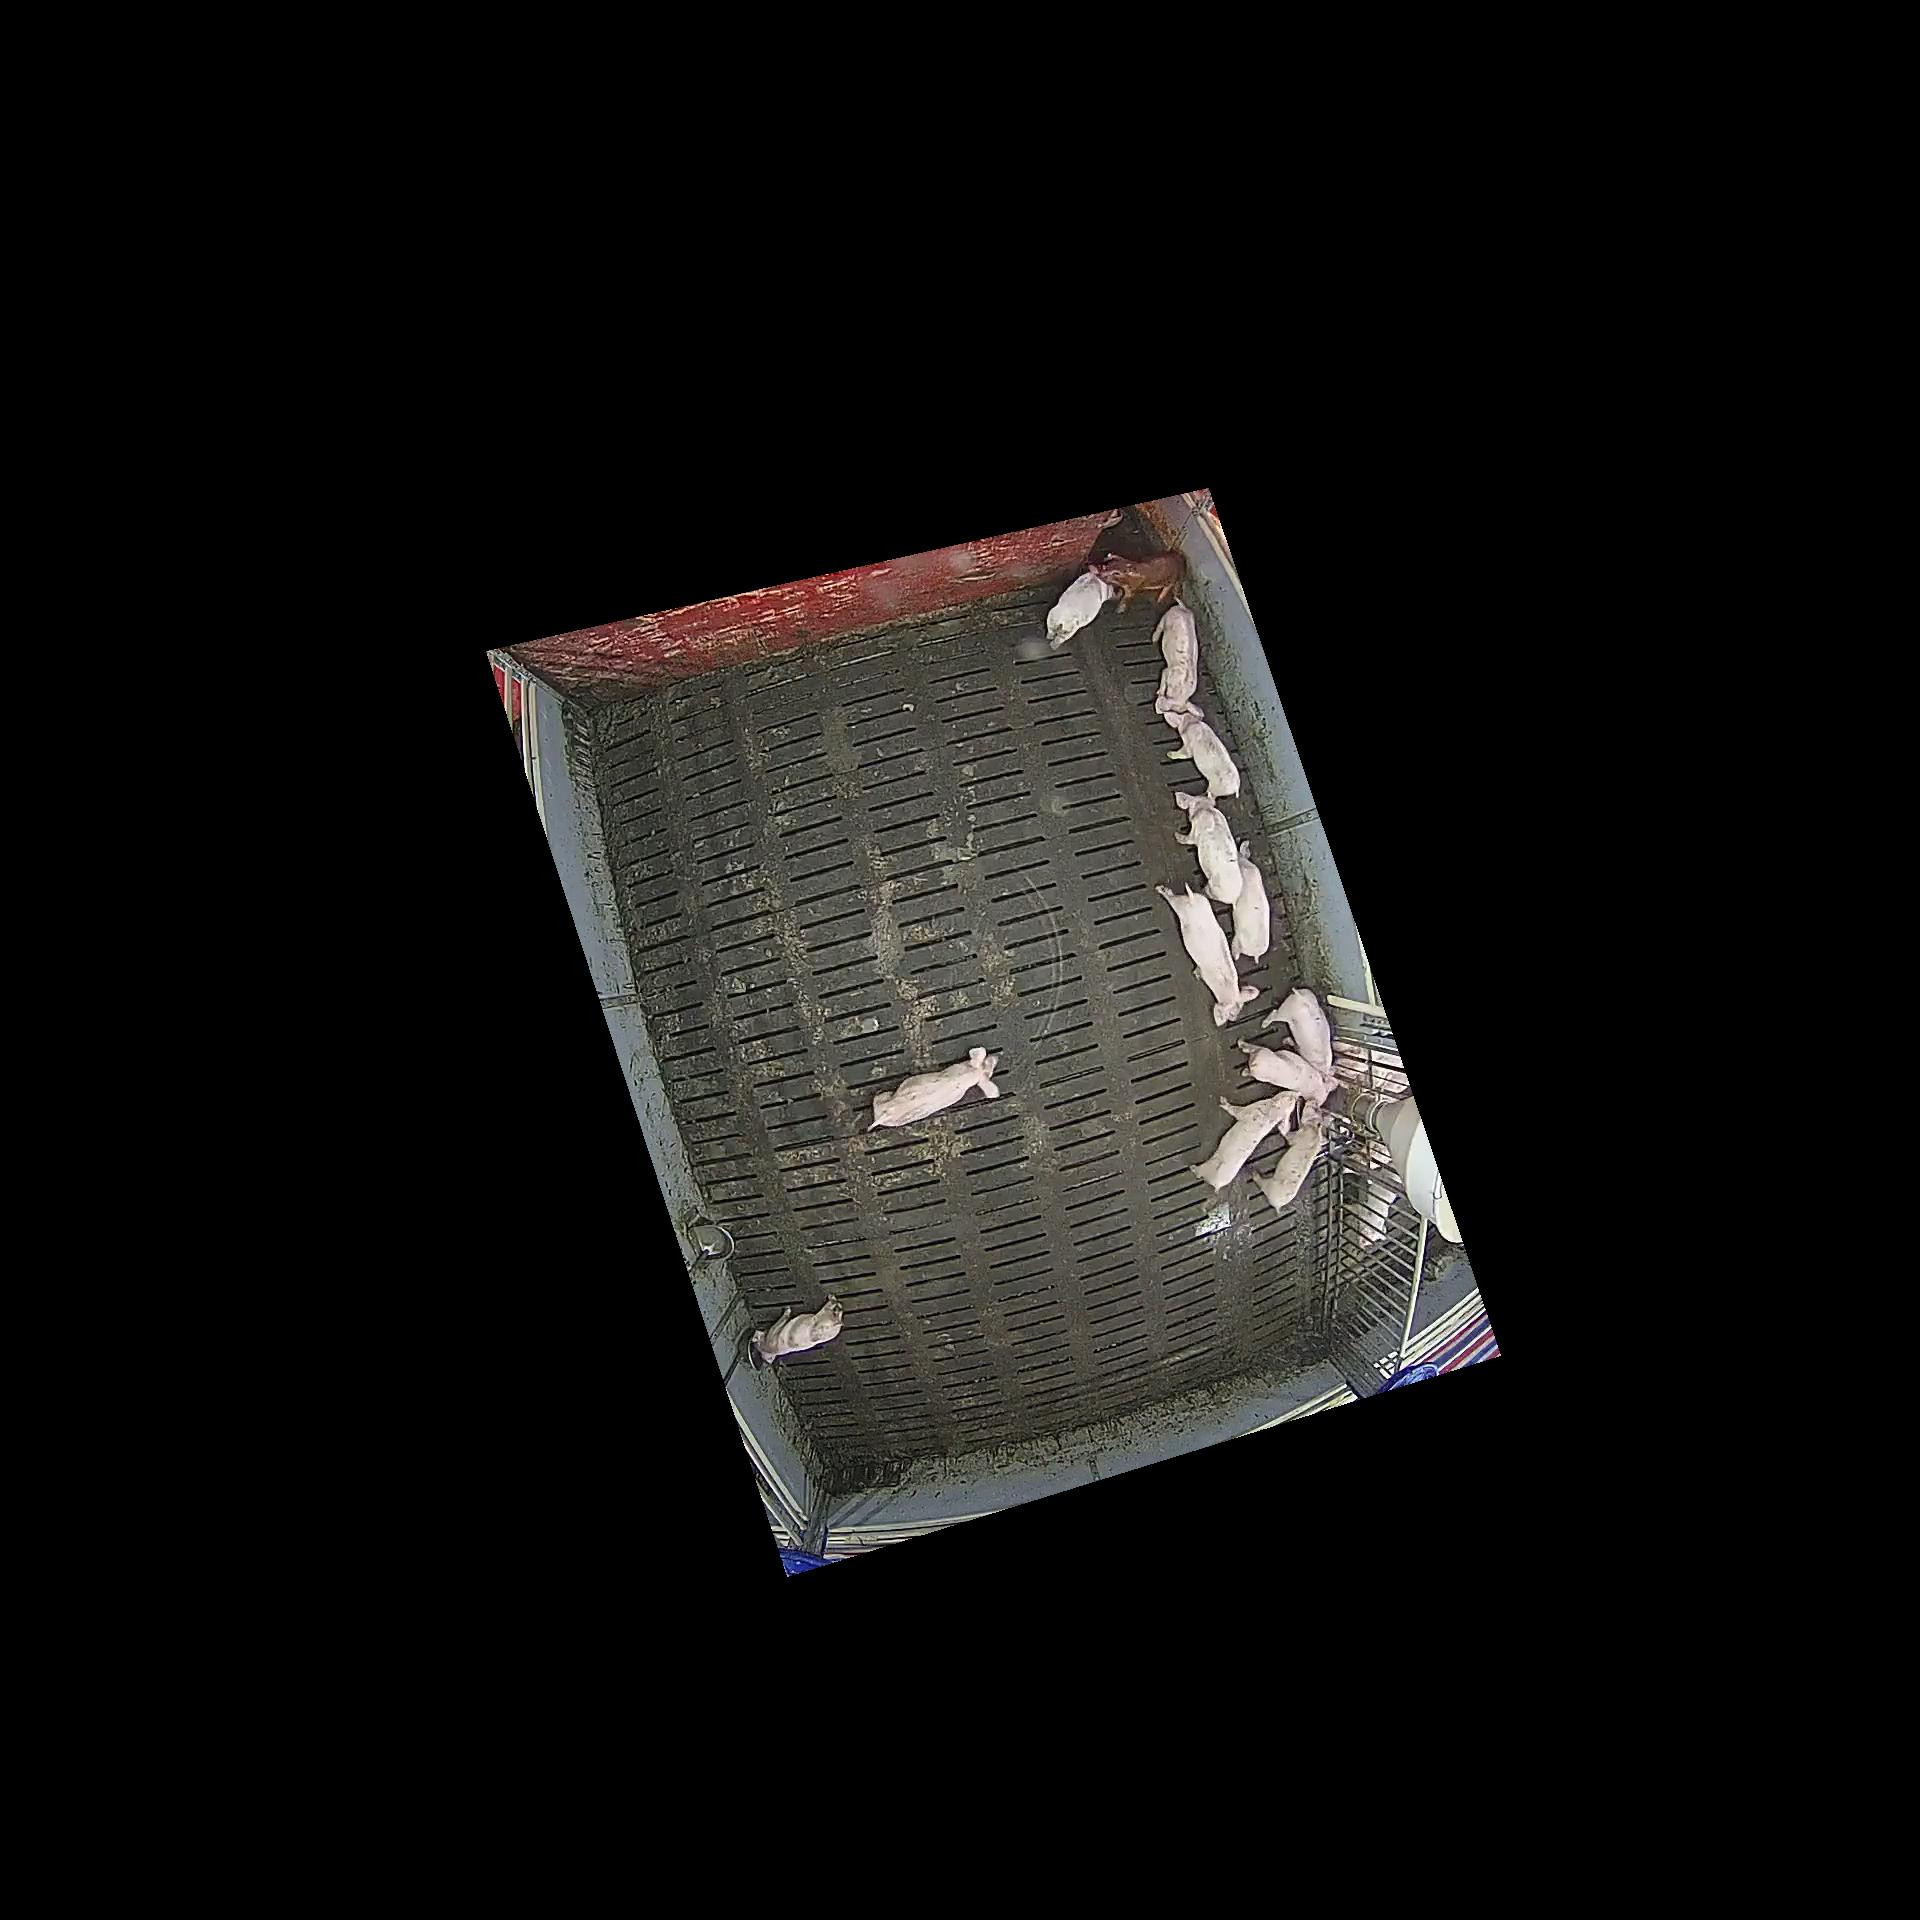pig: (1155, 883, 1261, 1029), (867, 1046, 999, 1132), (1190, 1090, 1299, 1192), (1252, 1108, 1329, 1215), (1175, 791, 1243, 909), (1238, 1041, 1340, 1106), (1262, 988, 1336, 1078), (1164, 712, 1240, 796), (753, 1294, 842, 1364), (1152, 596, 1203, 716), (1046, 564, 1115, 649), (1231, 840, 1269, 964), (1097, 556, 1180, 610)
